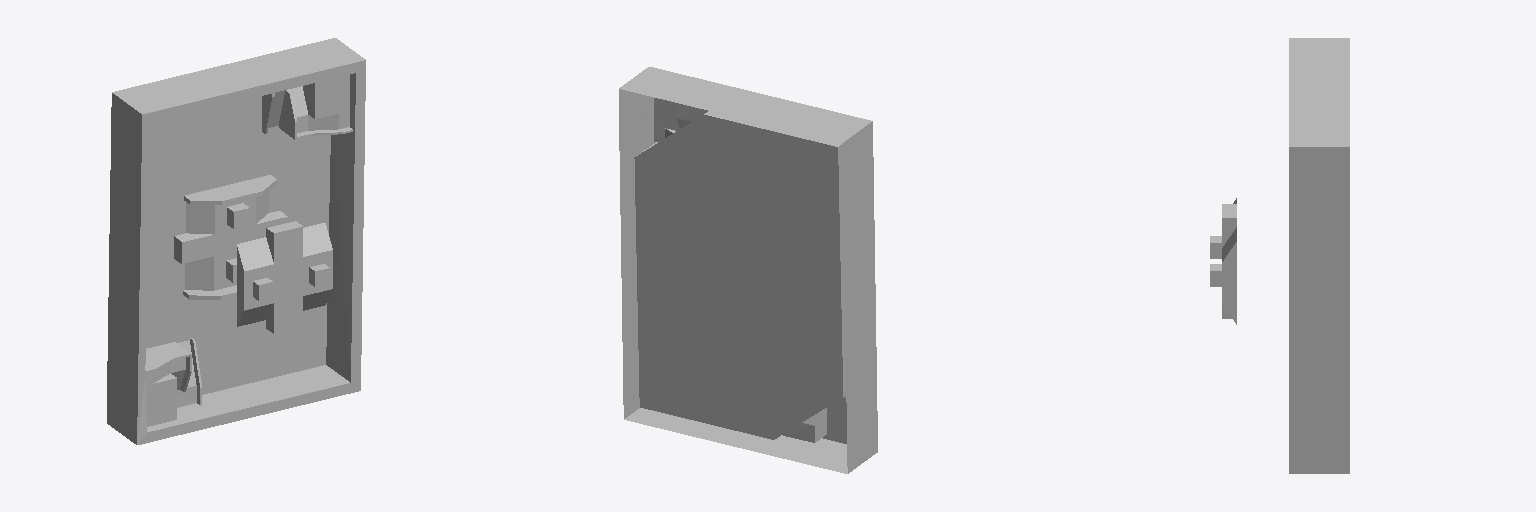
Rendered from cherie.obj.
The picture shows the model from 3 angles: view 1: azimuth 30°, elevation 25°; view 2: azimuth 150°, elevation 25°; view 3: azimuth 270°, elevation 25°; orthographic projection.
Size of the model in its own units: 11.32 by 15.57 by 5.98.